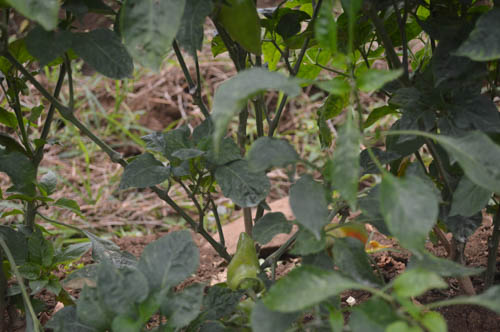ChiliPepper: (224, 233, 259, 286)
